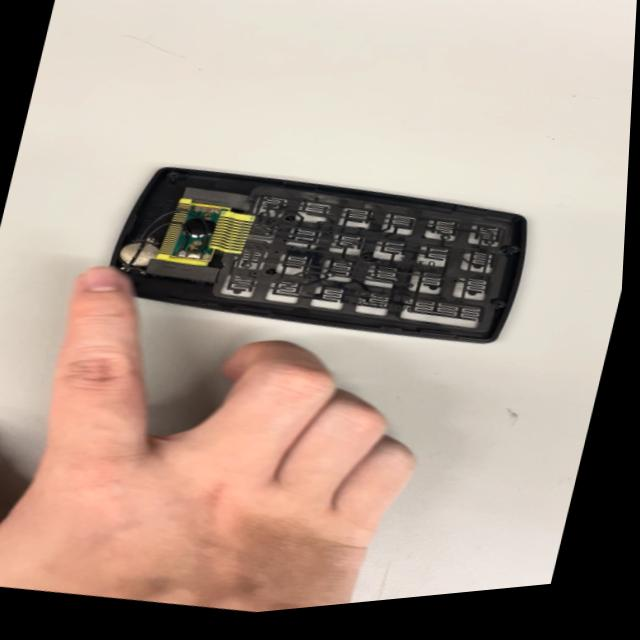front_panel: (91, 108, 558, 394)
